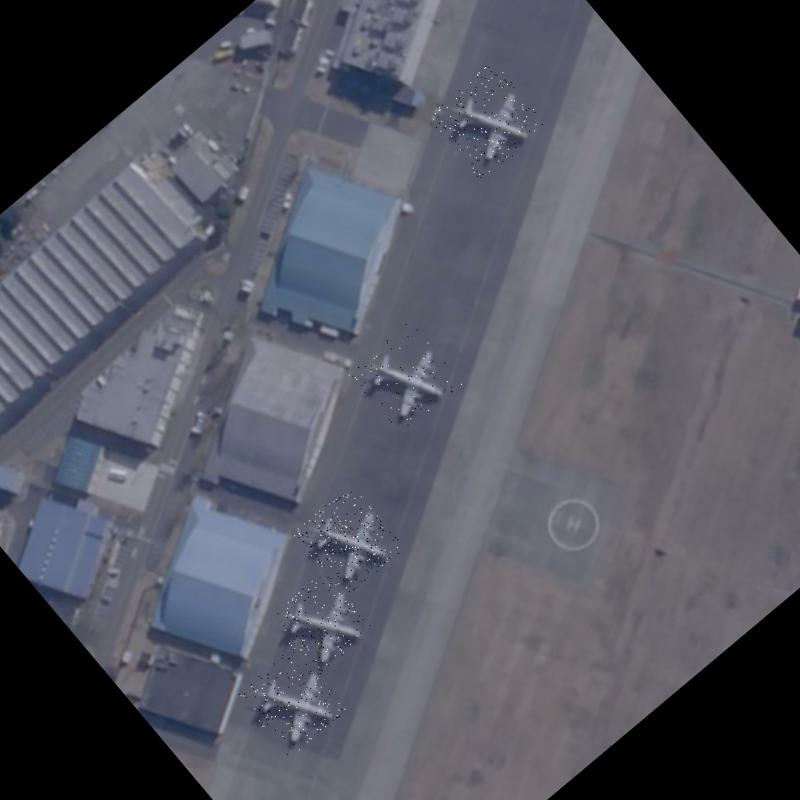A9: (426, 58, 548, 182), (346, 320, 462, 435), (292, 483, 405, 597), (235, 644, 348, 758), (267, 568, 375, 676)
